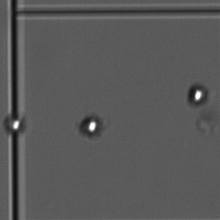Living Cell: (82, 119, 98, 135), (7, 117, 22, 133), (192, 88, 204, 102)
